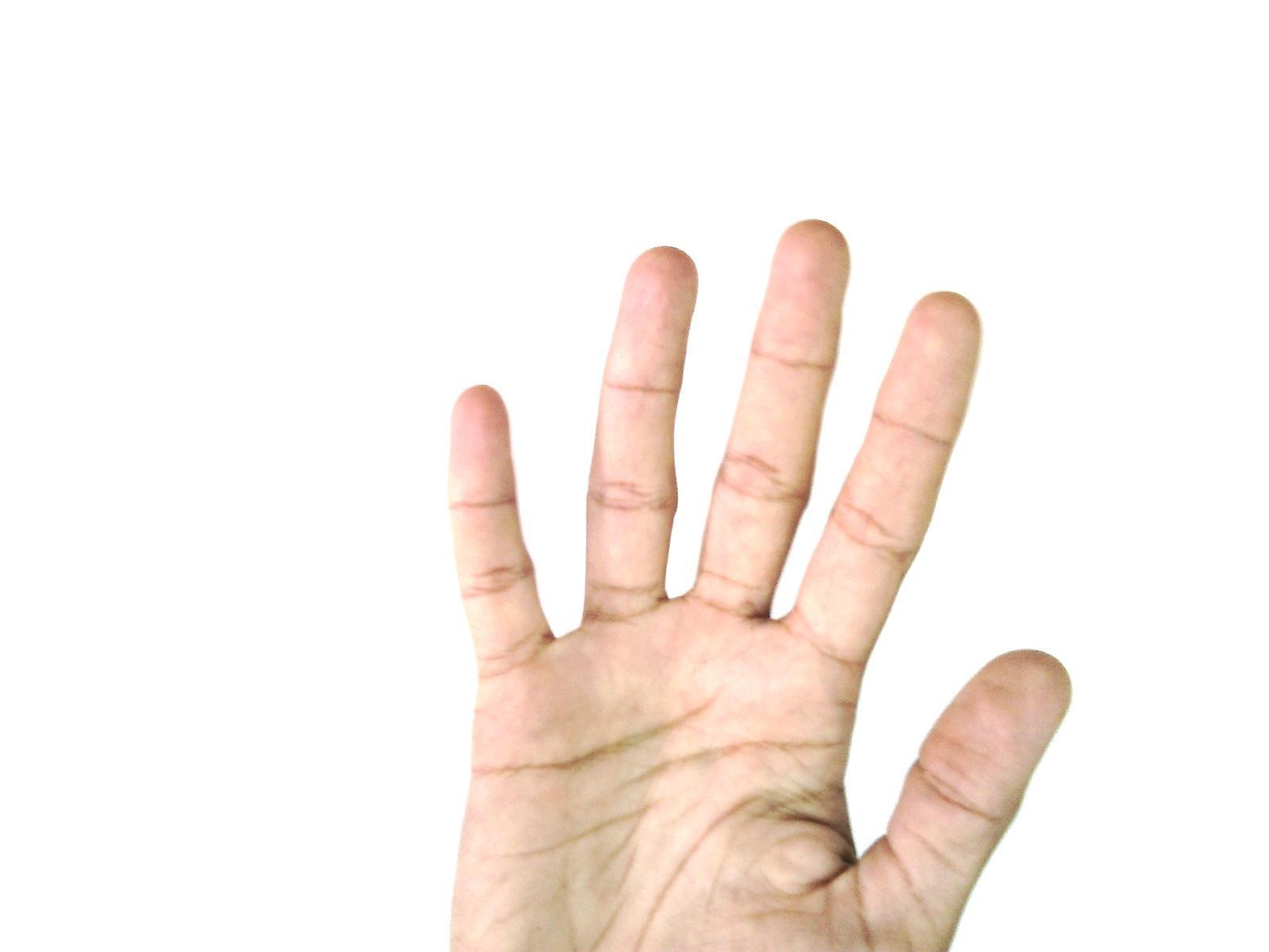open_palm: (441, 218, 1075, 952)
